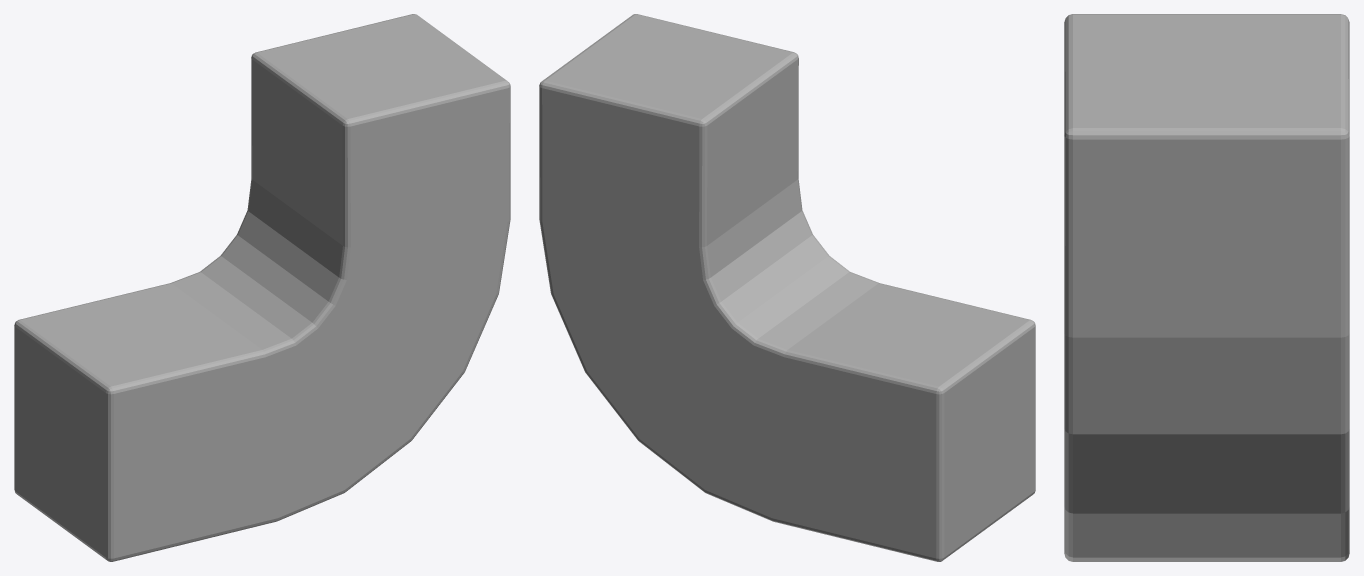
The model's file is AirVentShaft-L Small.fbx.
The picture shows the model from 3 angles, left to right: view 1: azimuth 30°, elevation 25°; view 2: azimuth 150°, elevation 25°; view 3: azimuth 270°, elevation 25°; orthographic projection. The views are drawn at different scales.
Parts seen in each view (by area): view 1: Cube.003; view 2: Cube.003; view 3: Cube.003.
Boxes of the visible parts, x1,y1,x2,y2 form: Cube.003: (14, 14, 510, 561); Cube.003: (539, 14, 1035, 561); Cube.003: (1064, 14, 1349, 561).
Size of the model in its own units: 320 by 291 by 132.
Materials: 1 (1 with a texture image).
